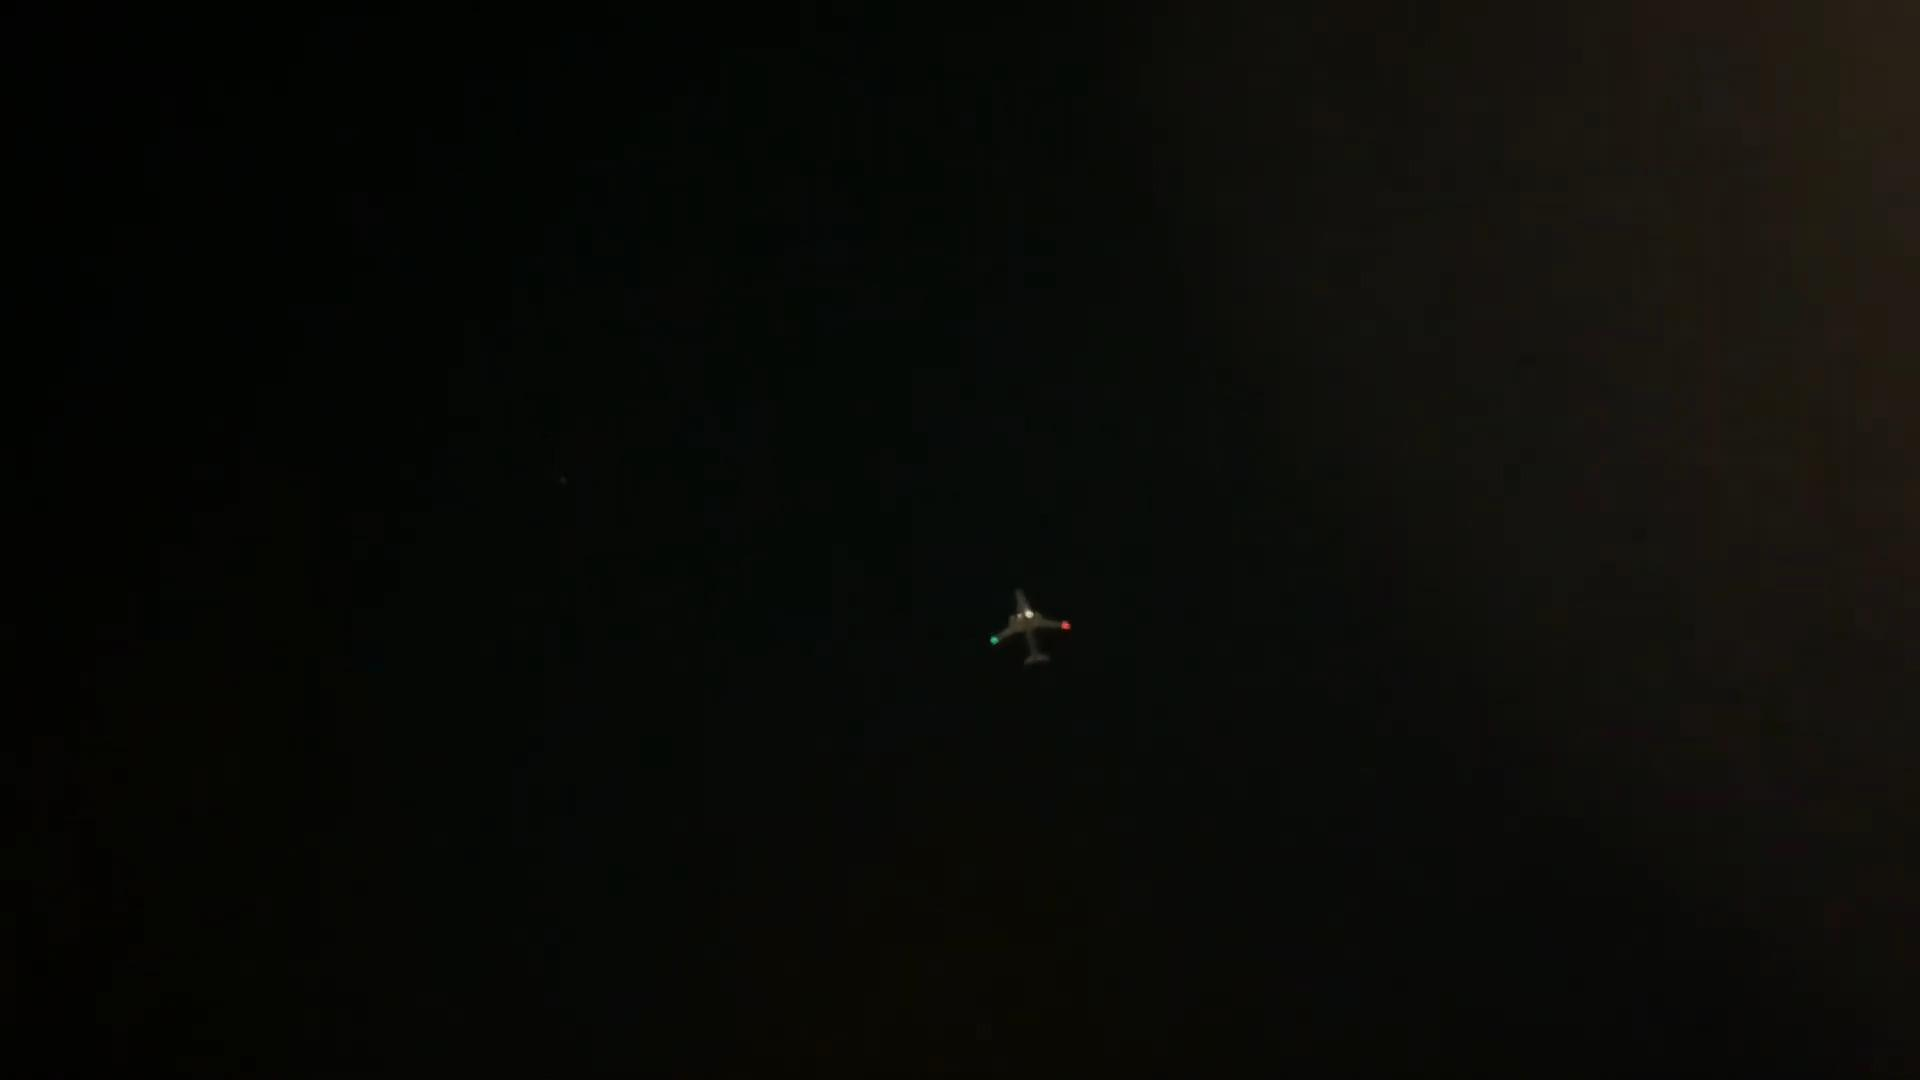Plane: (924, 564, 1147, 696)
